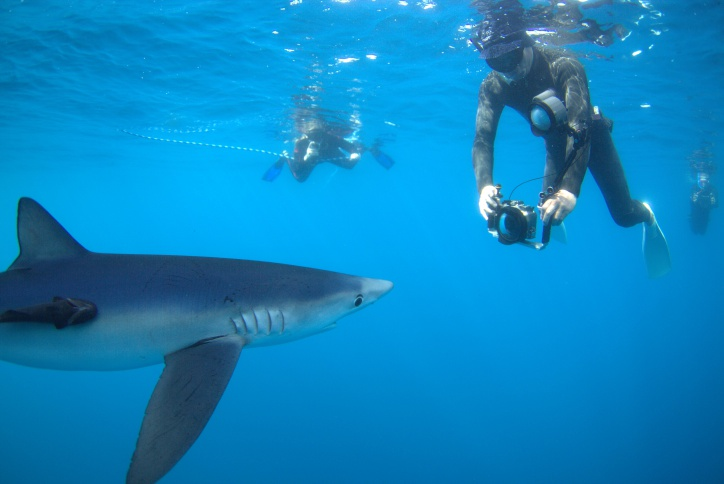Azul: (2, 186, 414, 484)
